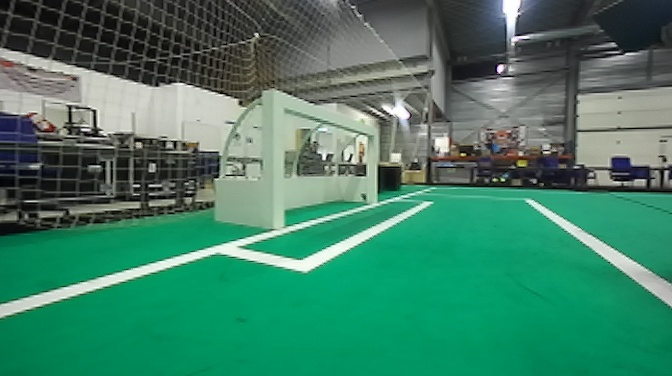goalpost: (251, 82, 295, 233), (359, 116, 384, 213)
